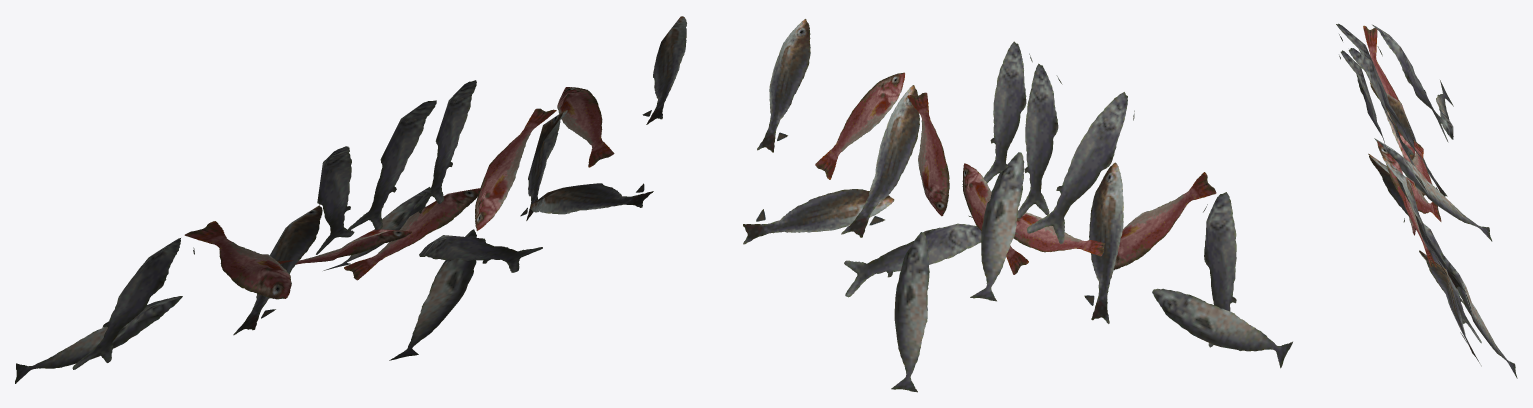
Rendered from 7002_Item_yu_1.FBX.
3 renders of one model, left to right at view 1: azimuth 30°, elevation 25°; view 2: azimuth 150°, elevation 25°; view 3: azimuth 270°, elevation 25°, orthographic. The views are drawn at different scales.
Visible parts, largest first — view 1: 7002_Item_yu_1; view 2: 7002_Item_yu_1; view 3: 7002_Item_yu_1.
Part boxes in pixels (bbox=[...]): 7002_Item_yu_1: bbox=[15, 16, 686, 383]; 7002_Item_yu_1: bbox=[743, 19, 1292, 392]; 7002_Item_yu_1: bbox=[1336, 23, 1517, 378].
Bounding box in the file's own units: 164 × 46.38 × 85.23.
